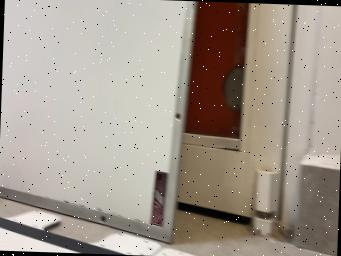street: (0, 217, 126, 255), (0, 217, 126, 255), (0, 217, 126, 255), (0, 217, 126, 255), (0, 217, 126, 255), (0, 217, 126, 255)
